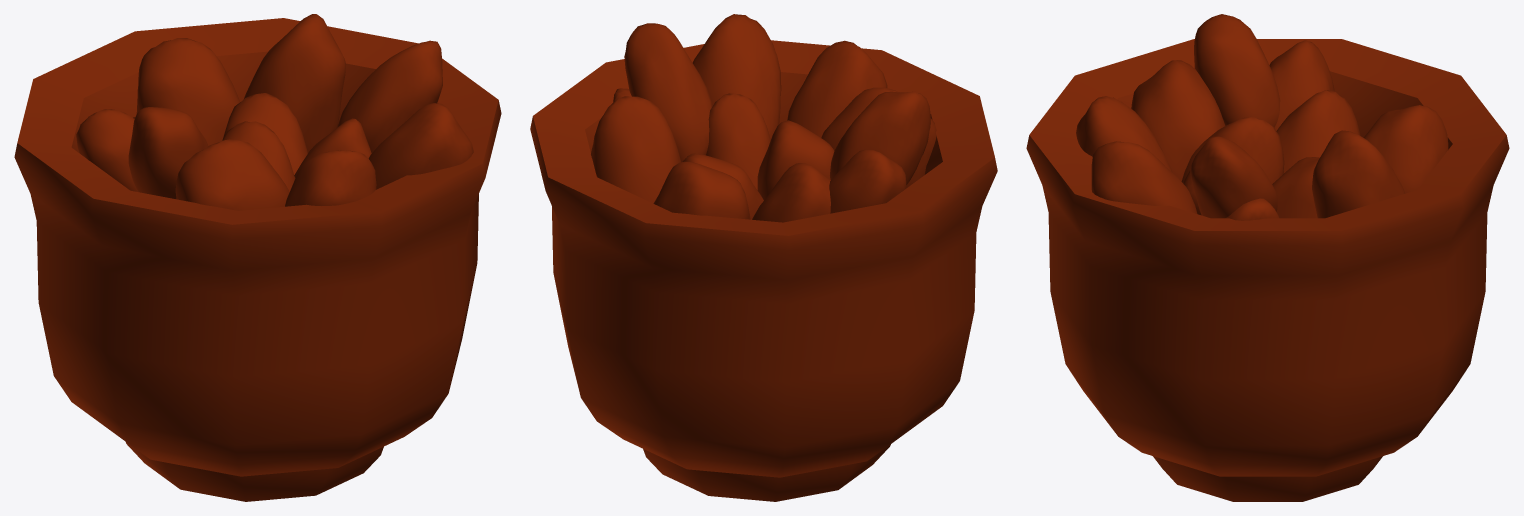
The model's file is Proxy_Fingan_A01.fbx.
The picture shows the model from 3 angles, left to right: view 1: azimuth 30°, elevation 25°; view 2: azimuth 150°, elevation 25°; view 3: azimuth 270°, elevation 25°; orthographic projection. The views are drawn at different scales.
Visible parts, largest first — view 1: Proxy_Fingan_A01; view 2: Proxy_Fingan_A01; view 3: Proxy_Fingan_A01.
Boxes of the visible parts, <box> form: Proxy_Fingan_A01: <box>14,14,501,501</box>; Proxy_Fingan_A01: <box>530,14,997,501</box>; Proxy_Fingan_A01: <box>1026,14,1509,501</box>.
Size of the model in its own units: 49.84 by 52.4 by 45.93.
